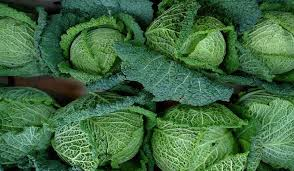cabbage: (49, 93, 147, 169), (152, 96, 249, 170), (54, 15, 137, 77), (147, 14, 234, 71), (238, 86, 294, 160), (237, 16, 294, 80)
